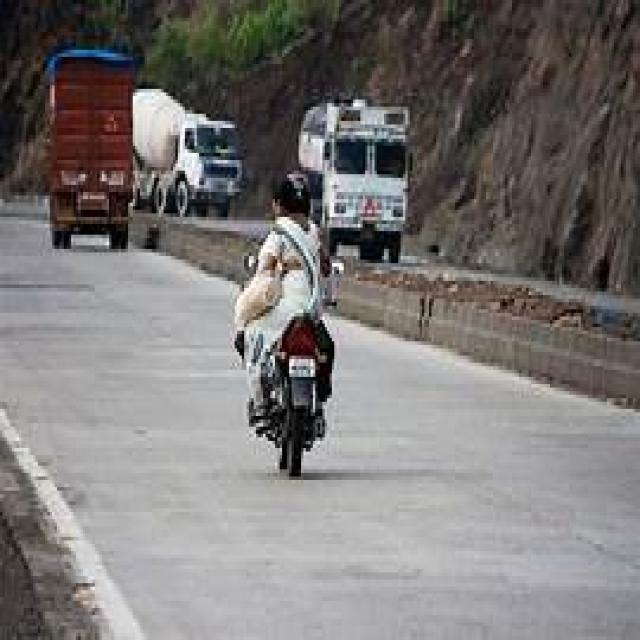Truck: (300, 99, 407, 260), (53, 49, 134, 248), (133, 88, 240, 215)
Two Wheeler: (250, 315, 334, 475)
